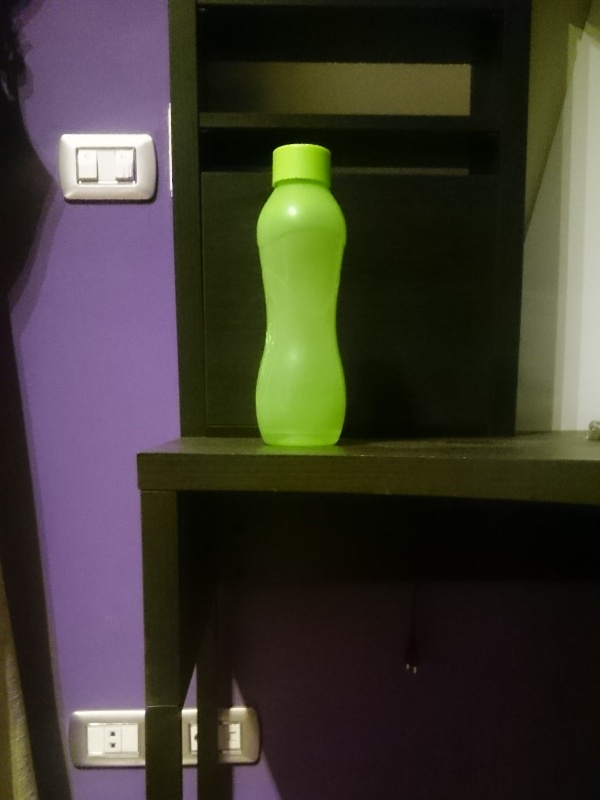my bottle: (253, 140, 346, 447)
